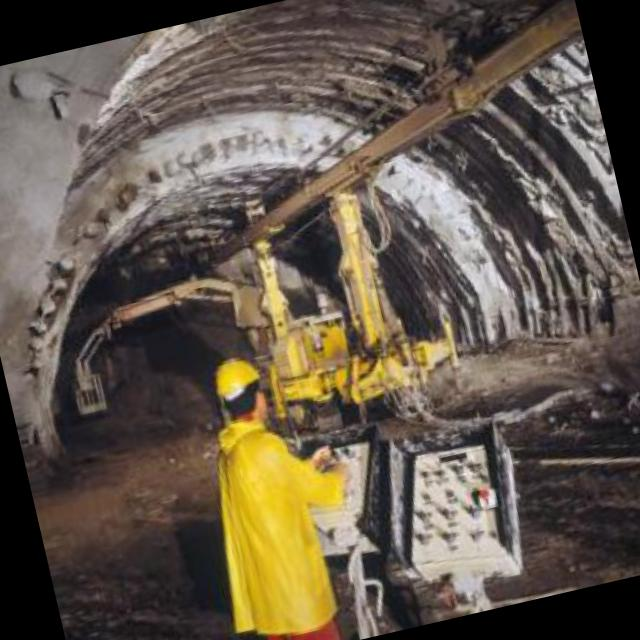helmet: (206, 346, 272, 428)
